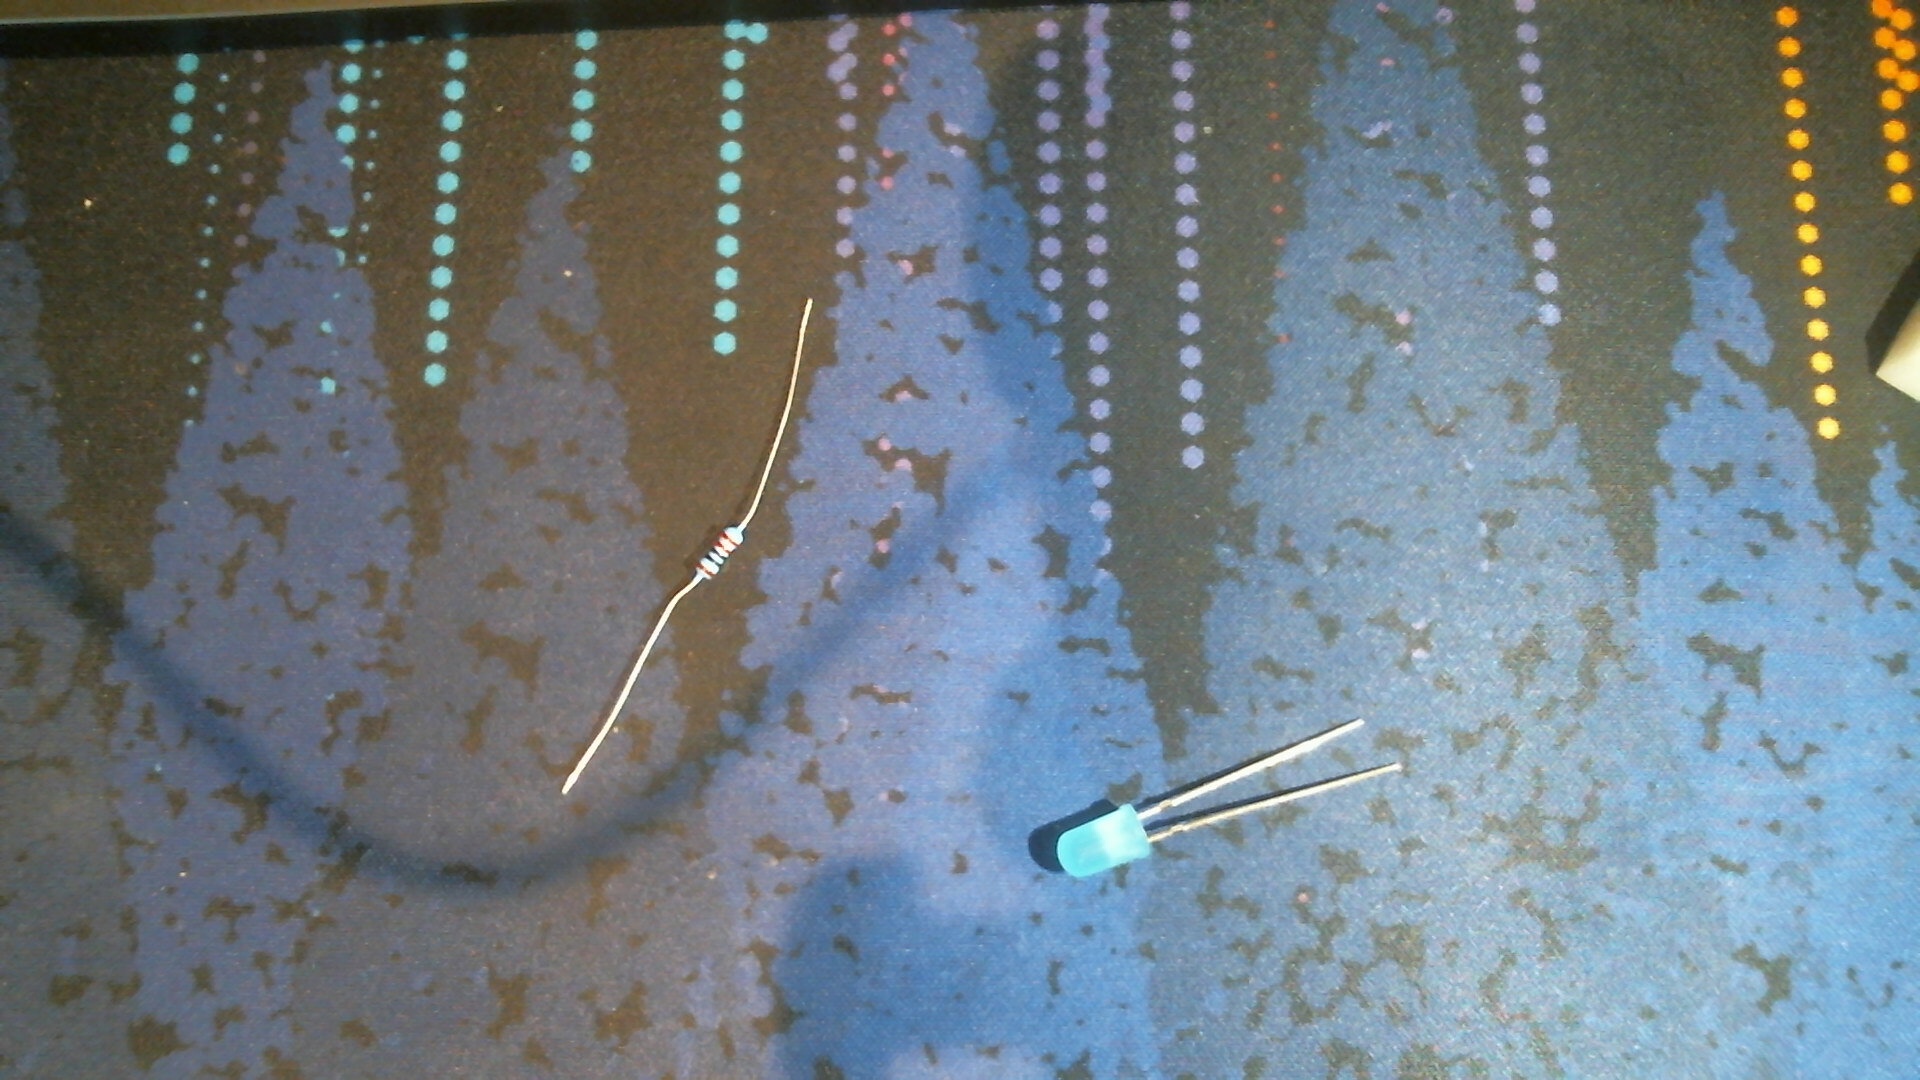LED: (1054, 800, 1156, 882)
resistor: (692, 522, 748, 584)
